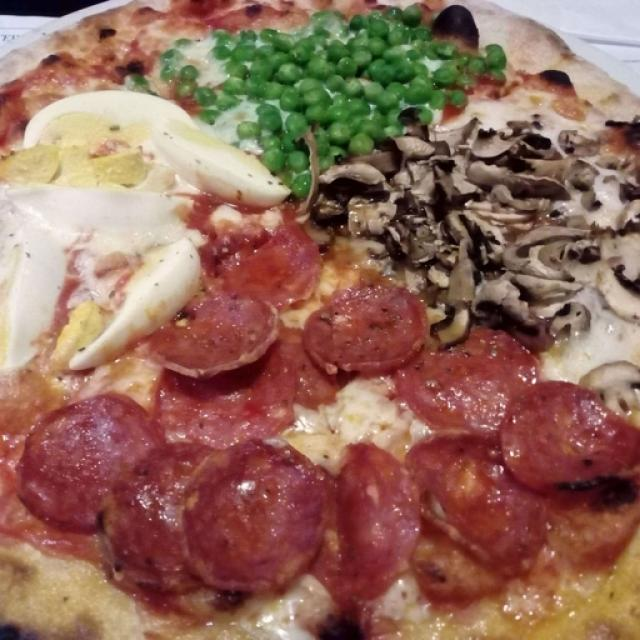mushrooms: (434, 208, 639, 346), (427, 113, 640, 226), (307, 157, 448, 258), (575, 356, 630, 422)
pepperoni: (12, 387, 166, 547), (164, 317, 333, 452), (179, 444, 332, 590), (100, 444, 243, 594), (304, 447, 426, 608), (407, 430, 547, 570), (398, 316, 538, 443), (503, 370, 632, 507), (306, 278, 436, 386), (160, 287, 282, 384), (210, 215, 324, 309)
